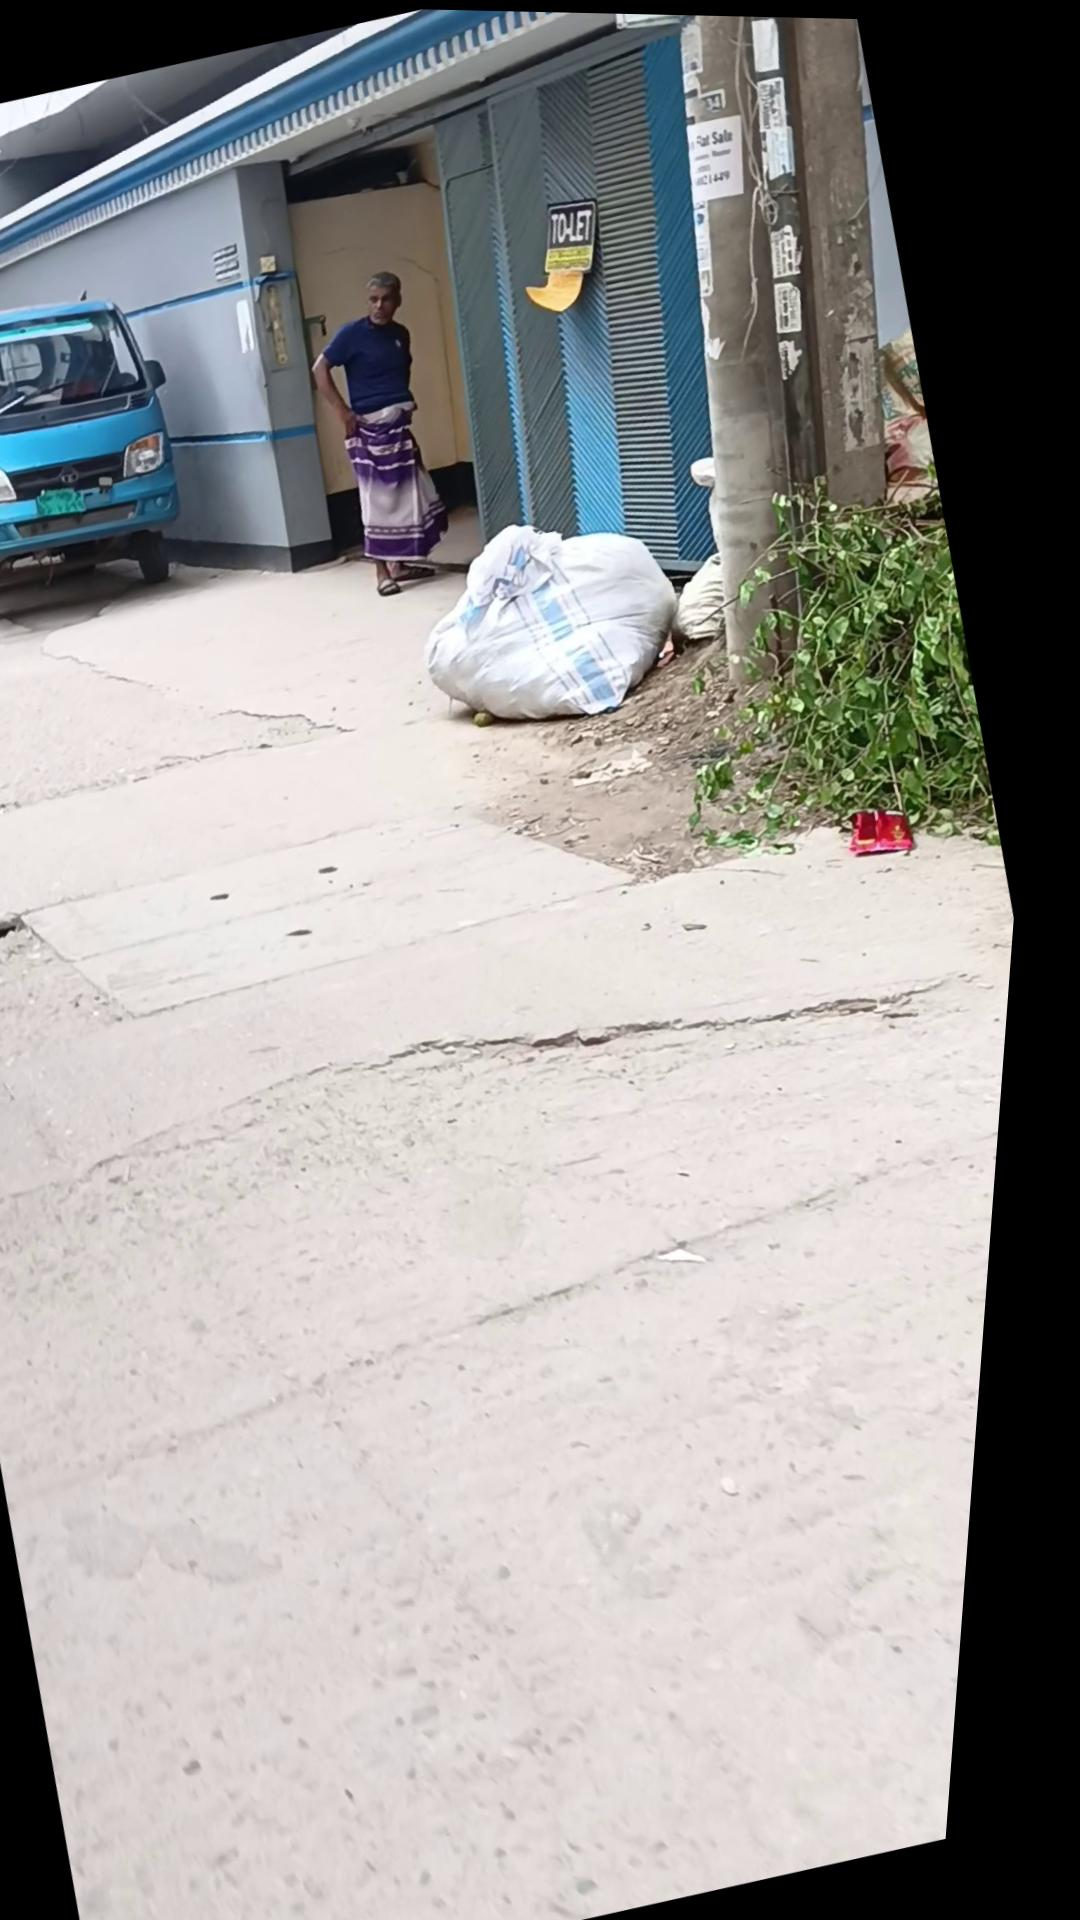Broken-road: (0, 276, 1064, 1920)
Crosswalk: (18, 752, 663, 1050)
Muddy road: (284, 261, 488, 603)
Traffic-sign: (0, 266, 227, 651)
